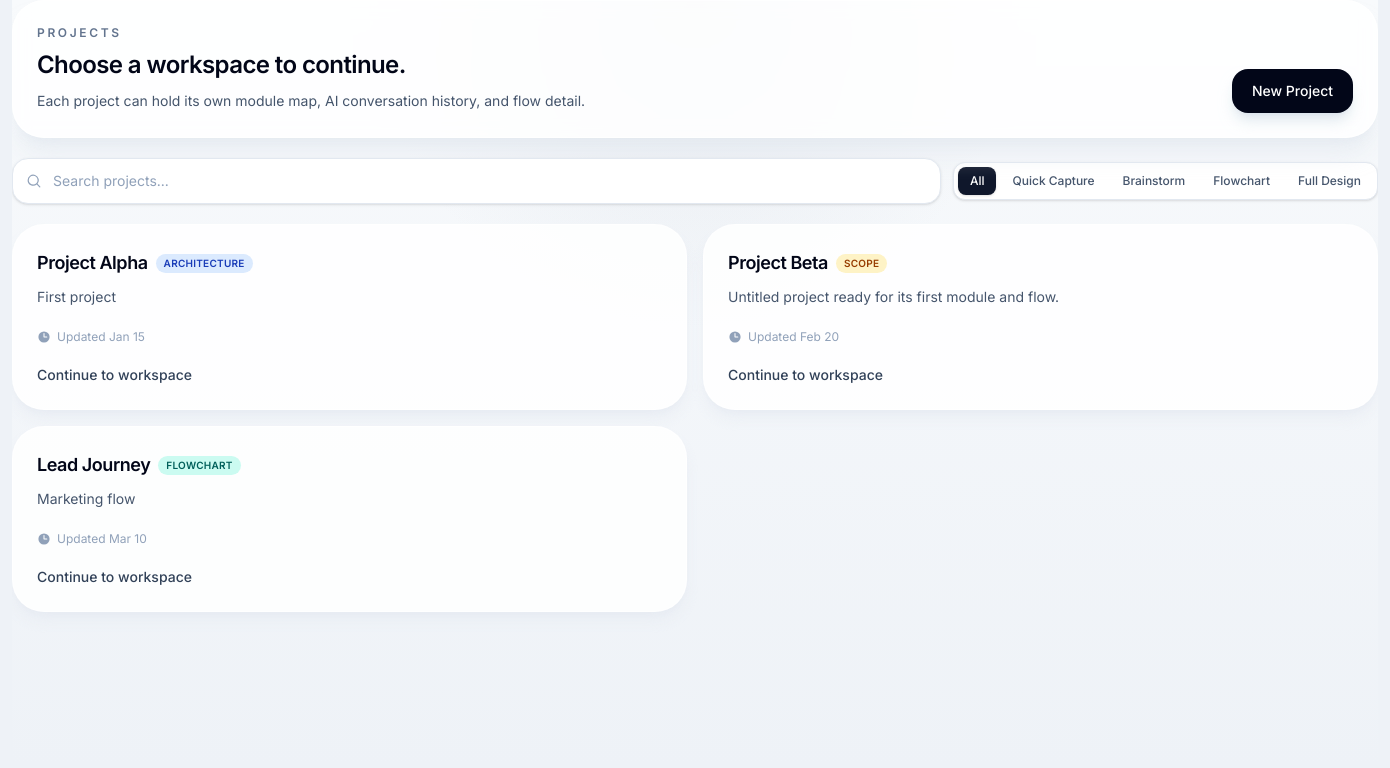
ProjectList › does not navigate when createProject fails
Click the button "New Project".
click(1292, 91)  # box [1232,69,1353,113]
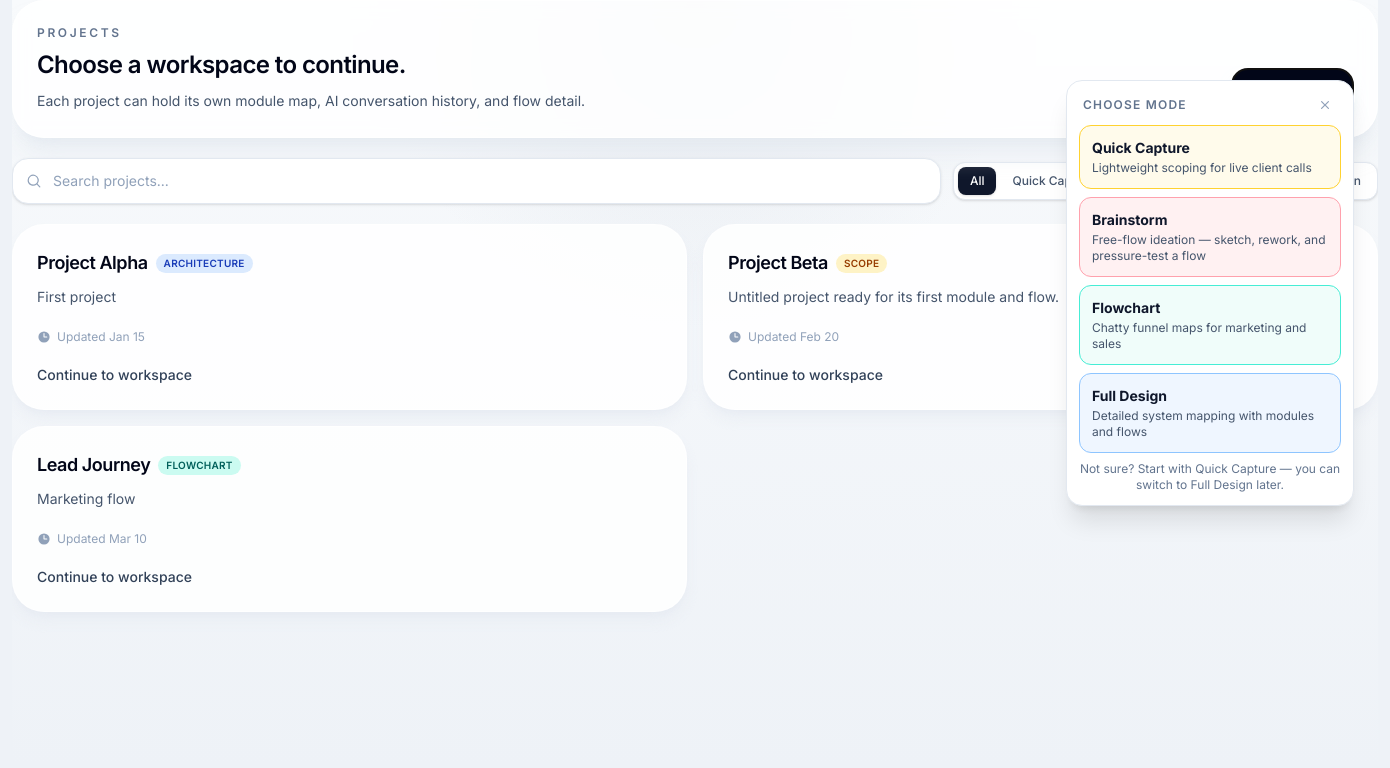
Click the button "Quick Capture Lightweight scoping for live client calls".
click(1210, 157)  # box [1079,125,1341,189]
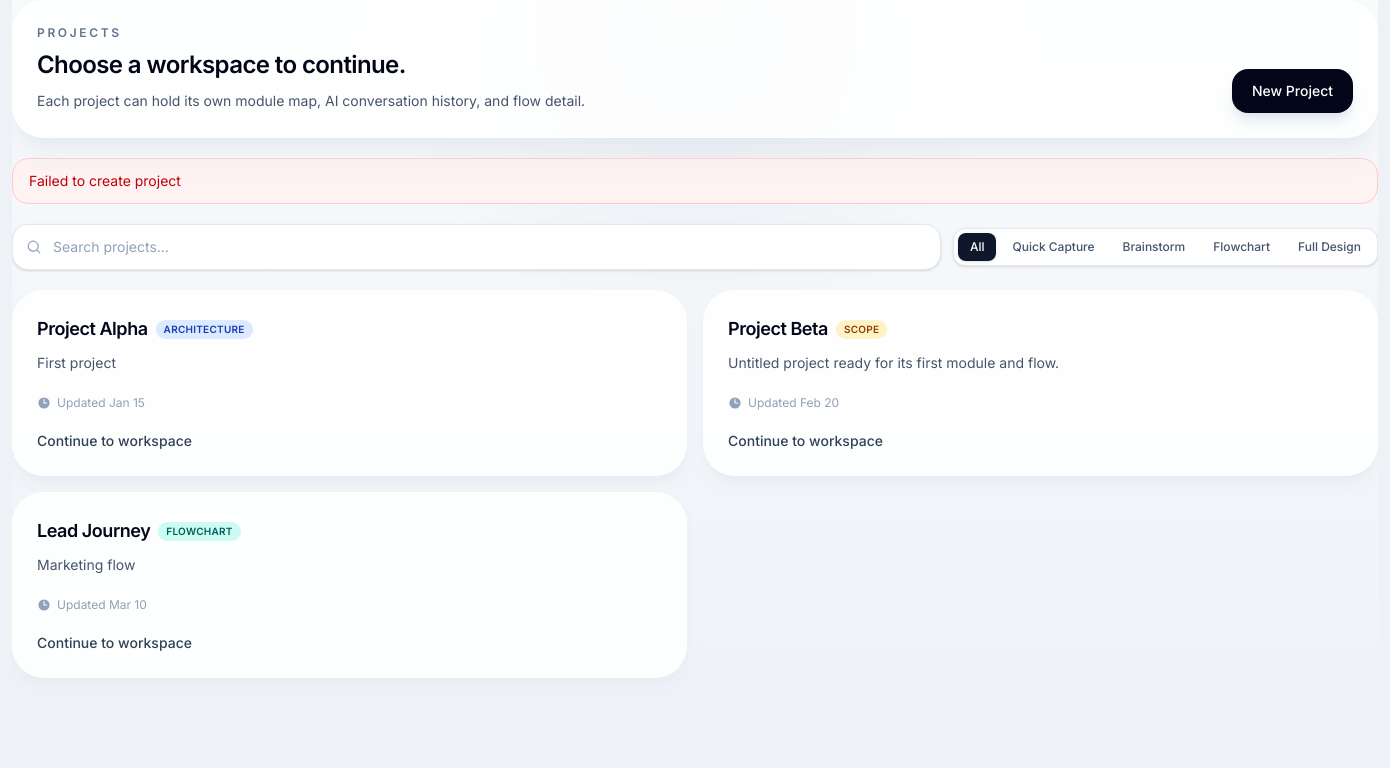
Now the message reads "Failed to create project", box [29,172,181,189]
